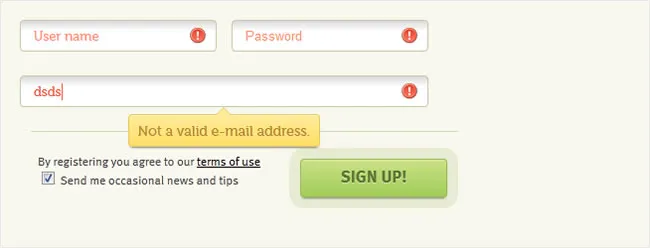error_message: (242, 26, 306, 46), (32, 28, 101, 46), (30, 83, 70, 99)
